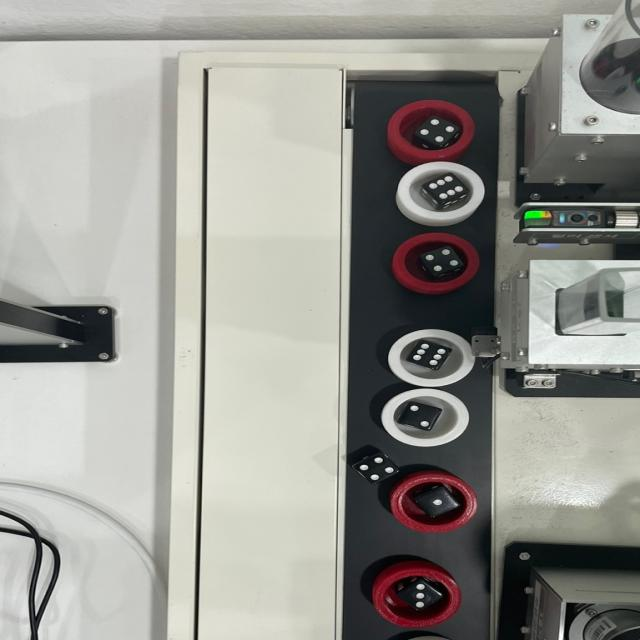DICE1: (429, 492, 451, 512)
DICE2: (402, 403, 434, 428)
DICE3: (405, 580, 435, 612)
DICE4: (416, 116, 461, 146), (421, 244, 462, 272), (358, 455, 398, 482)
DICE6: (423, 173, 466, 204), (410, 341, 448, 366)
RedChip: (389, 233, 480, 295), (388, 98, 478, 160), (390, 472, 477, 531), (375, 569, 462, 628)
WhiteChip: (399, 160, 491, 222), (388, 328, 481, 388), (378, 388, 470, 447)
